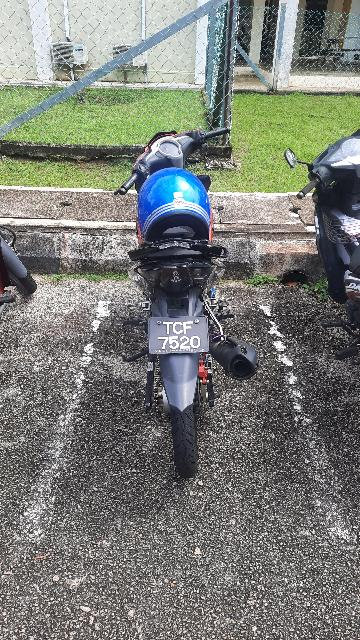License_Plate: (142, 310, 218, 362)
motorcycle: (110, 116, 266, 481)
